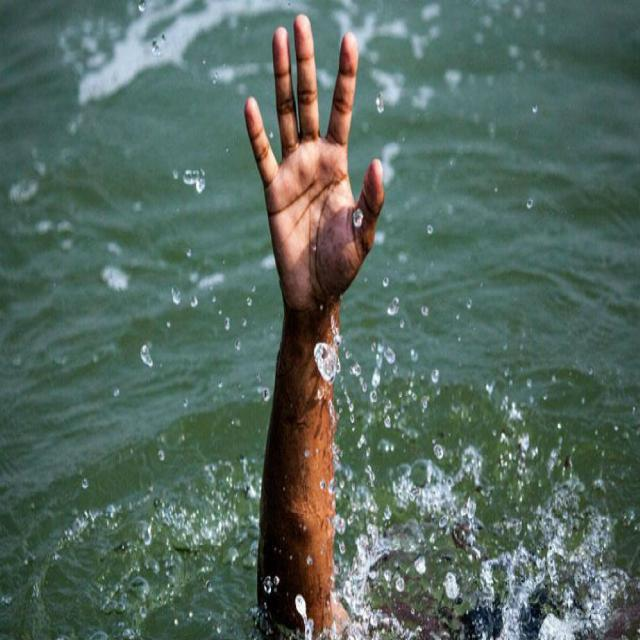swimming: (202, 10, 454, 640)
